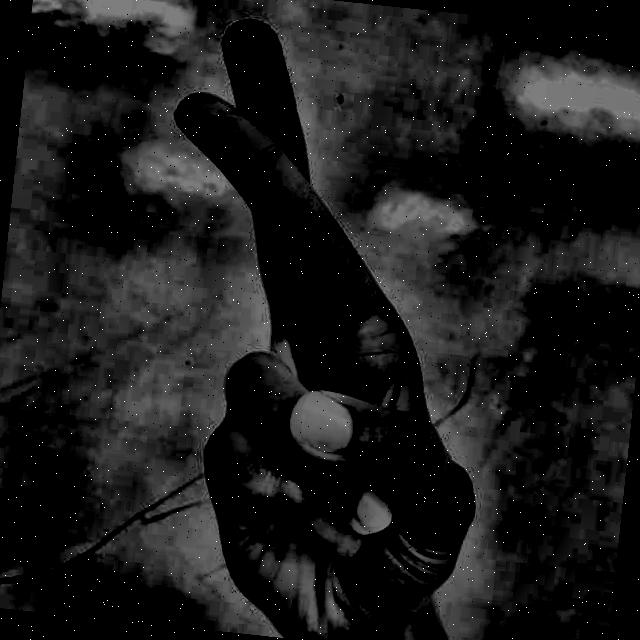Ra: (79, 4, 546, 640)
